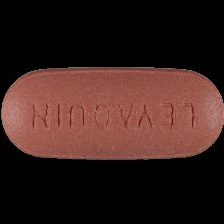54868-4175: (0, 0, 224, 224)
